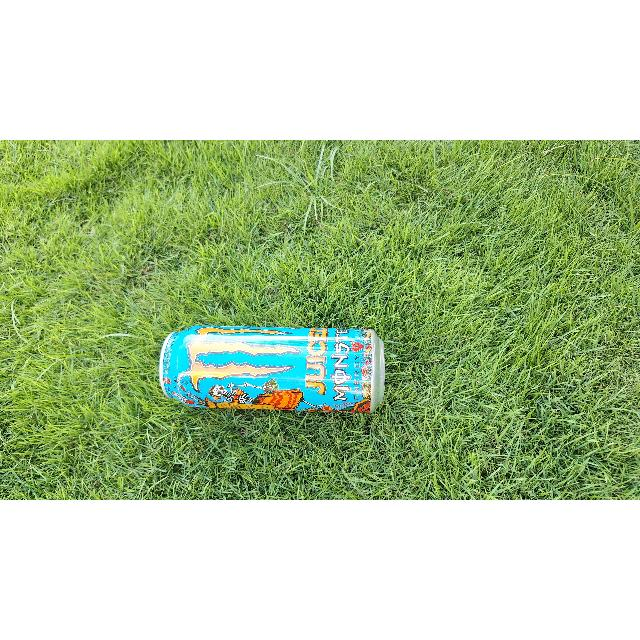Monster Mango Loco: (163, 328, 387, 412)
